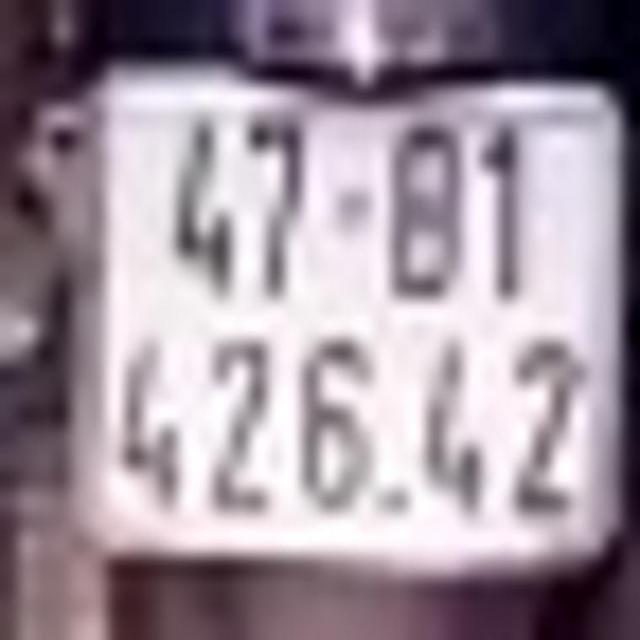1: (476, 116, 524, 310)
2: (510, 330, 590, 529), (204, 329, 274, 522)
4: (417, 328, 487, 524), (172, 114, 240, 312), (120, 333, 181, 514)
6: (294, 328, 374, 516)
7: (243, 114, 308, 297)
B: (388, 118, 469, 308)
